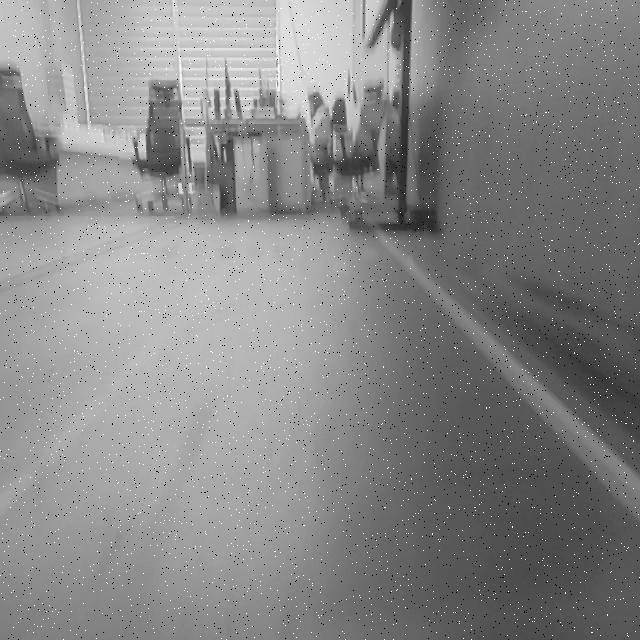left_lane: (0, 257, 239, 522)
right_lane: (369, 226, 640, 521)
